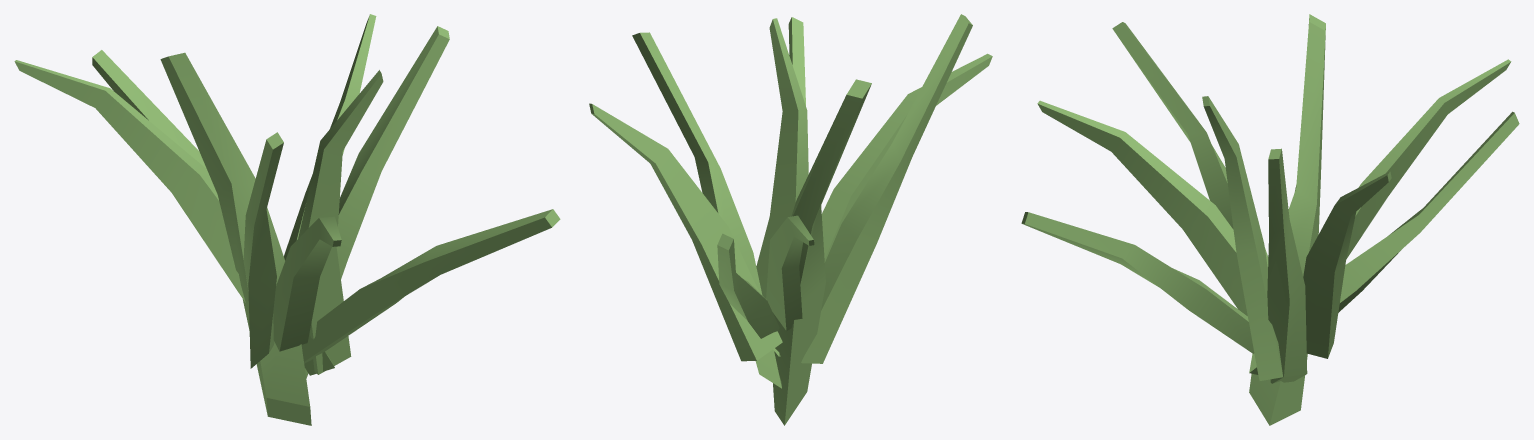
Rendered from Plants_Pack_Grass_blade_07.001.fbx.
3 renders of one model, left to right at view 1: azimuth 30°, elevation 25°; view 2: azimuth 150°, elevation 25°; view 3: azimuth 270°, elevation 25°, orthographic. The views are drawn at different scales.
Visible parts, largest first — view 1: Plants_Pack_Grass_blade_07.001; view 2: Plants_Pack_Grass_blade_07.001; view 3: Plants_Pack_Grass_blade_07.001.
Part boxes in pixels (x1,y1,x2,y2): Plants_Pack_Grass_blade_07.001: (14, 14, 560, 425); Plants_Pack_Grass_blade_07.001: (589, 14, 992, 425); Plants_Pack_Grass_blade_07.001: (1021, 14, 1519, 425).
Bounding box in the file's own units: 10.8 × 12.73 × 16.12.
